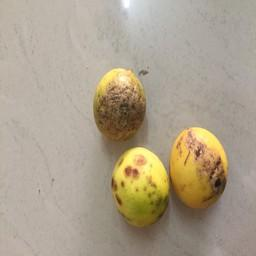Bad_lime: (110, 145, 172, 232), (171, 127, 226, 209), (95, 65, 150, 141)
